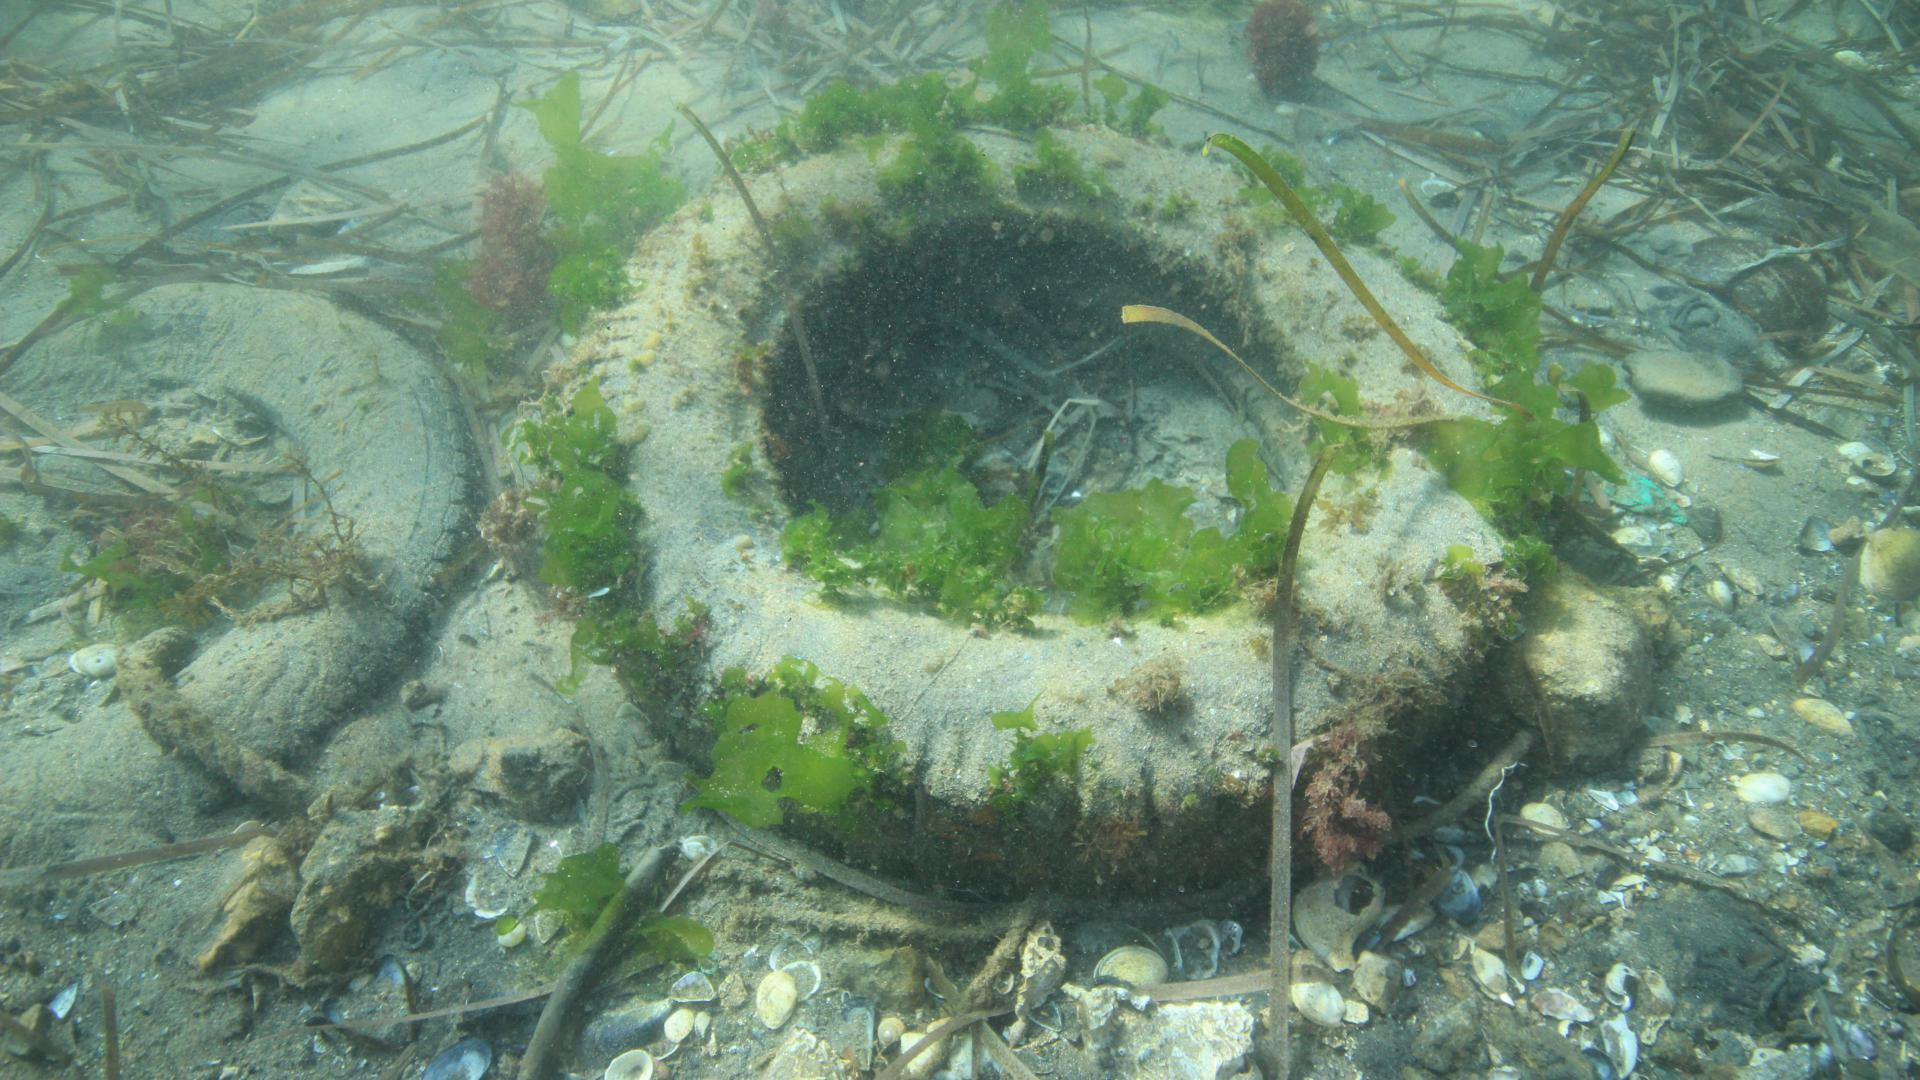rope: (113, 620, 327, 818)
tire: (559, 119, 1516, 902)
